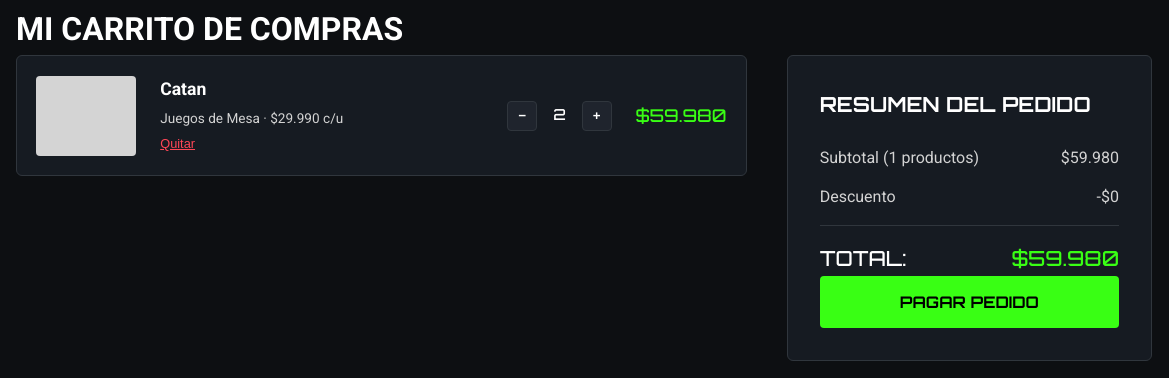
Test case: pagina Carrito › controles de cantidad › el botón − decrementa la cantidad
The image size is (1169, 378).
Click the button named "Disminuir cantidad".
click(522, 116)  # box x1=507 y1=100 x2=537 y2=130
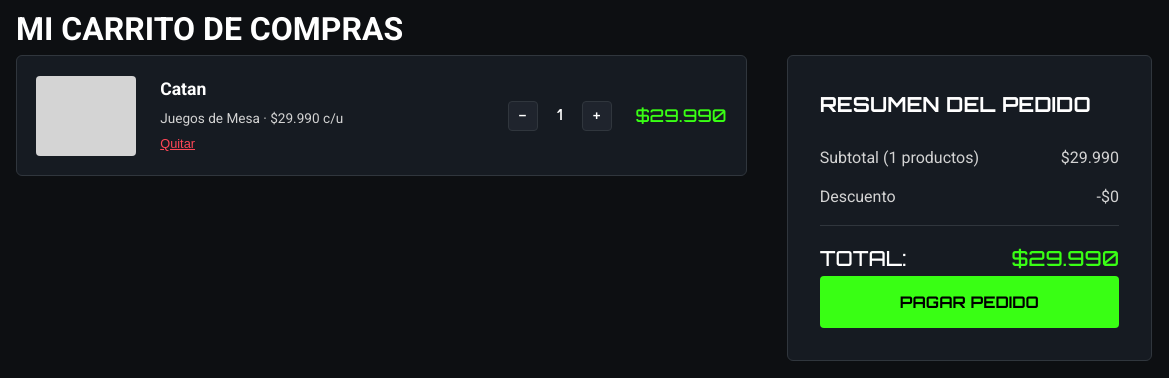
Check: the text "1" is shown, box x1=557 y1=105 x2=563 y2=124
